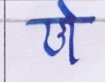e_matra: (56, 1, 77, 18)
